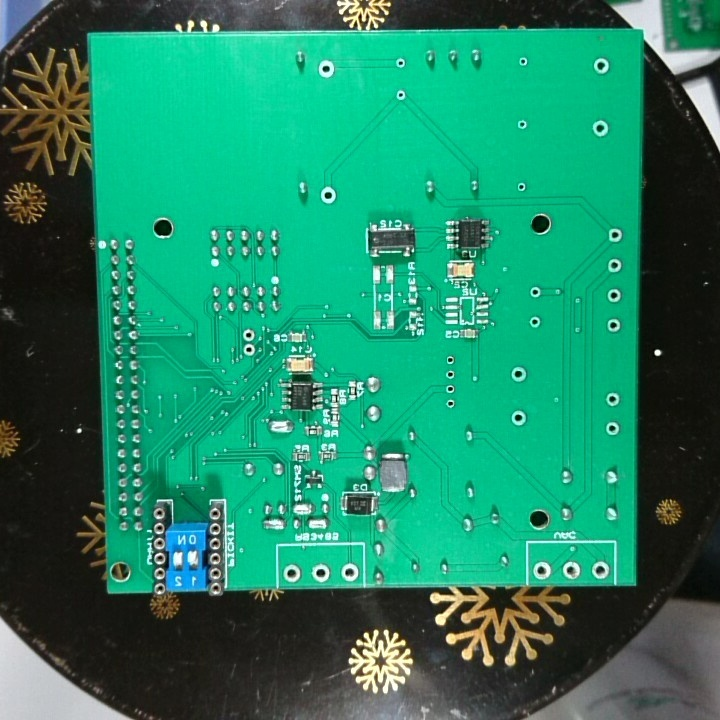F: (560, 558, 583, 583), (531, 558, 553, 583), (317, 184, 339, 207), (309, 562, 332, 584), (316, 57, 337, 81), (339, 560, 360, 584), (508, 363, 530, 385), (590, 117, 611, 140), (282, 562, 303, 584), (591, 55, 611, 78), (589, 558, 609, 581), (507, 408, 529, 428), (602, 390, 623, 410), (602, 420, 624, 439), (605, 287, 624, 306), (606, 226, 625, 244), (605, 256, 623, 275), (604, 316, 622, 335), (526, 313, 544, 331), (240, 327, 258, 344), (241, 342, 258, 359), (443, 395, 459, 413), (392, 54, 408, 71), (514, 116, 531, 132), (526, 284, 543, 300), (443, 381, 459, 397), (514, 54, 531, 69), (394, 87, 408, 104), (443, 353, 459, 367), (444, 366, 458, 382), (515, 180, 528, 195)
P: (259, 516, 289, 533), (265, 418, 294, 435), (290, 500, 316, 517), (306, 517, 331, 532)
